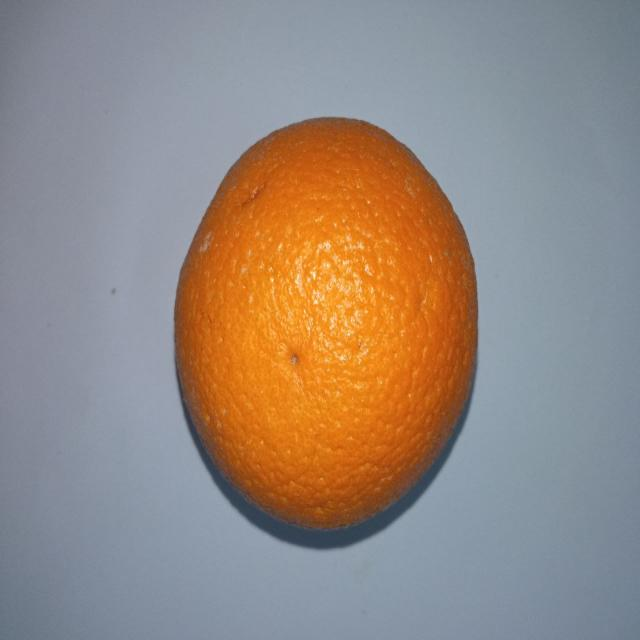fresh_orange: (174, 117, 476, 531)
